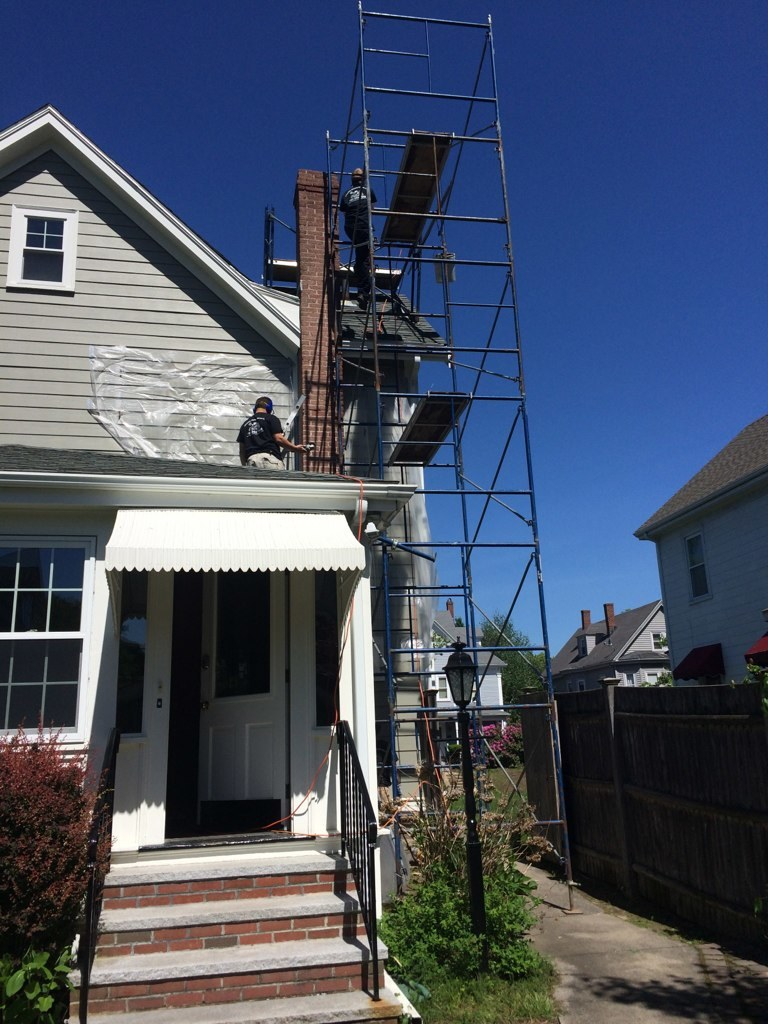door: (203, 575, 286, 819)
